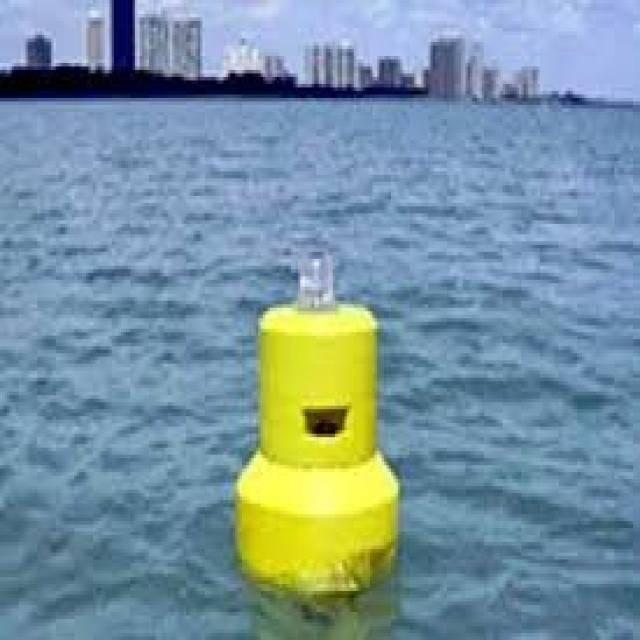2.5 sepcial mark: (239, 221, 405, 600)
